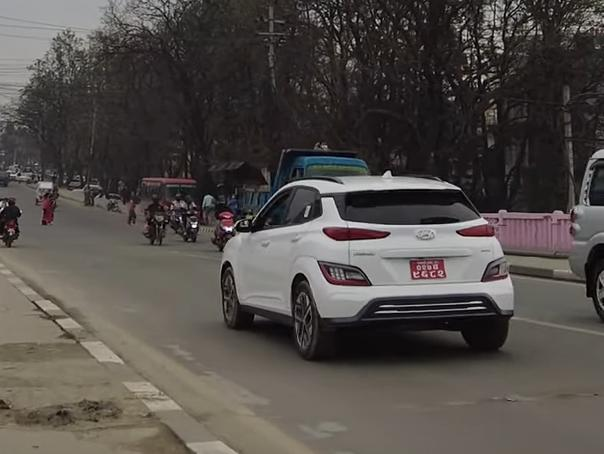SUV: (567, 147, 604, 315)
bike: (145, 206, 169, 248)
car: (219, 169, 516, 378)
